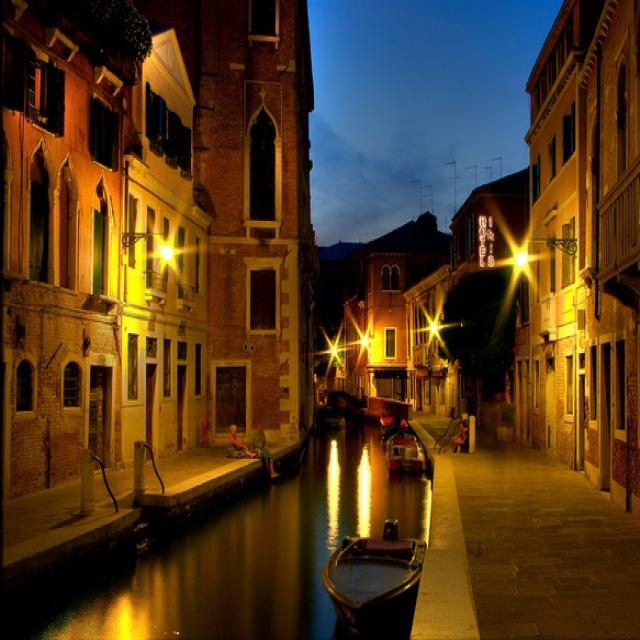Boat: (315, 497, 424, 625), (375, 407, 423, 492)
